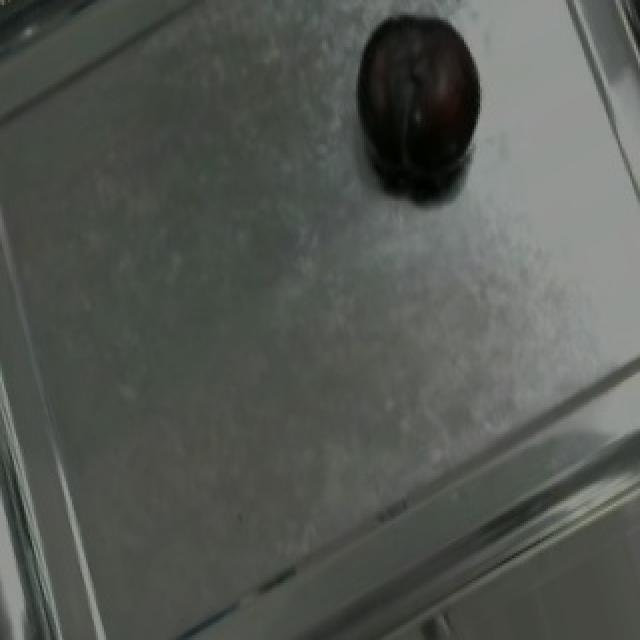Fruit: (332, 0, 504, 208)
